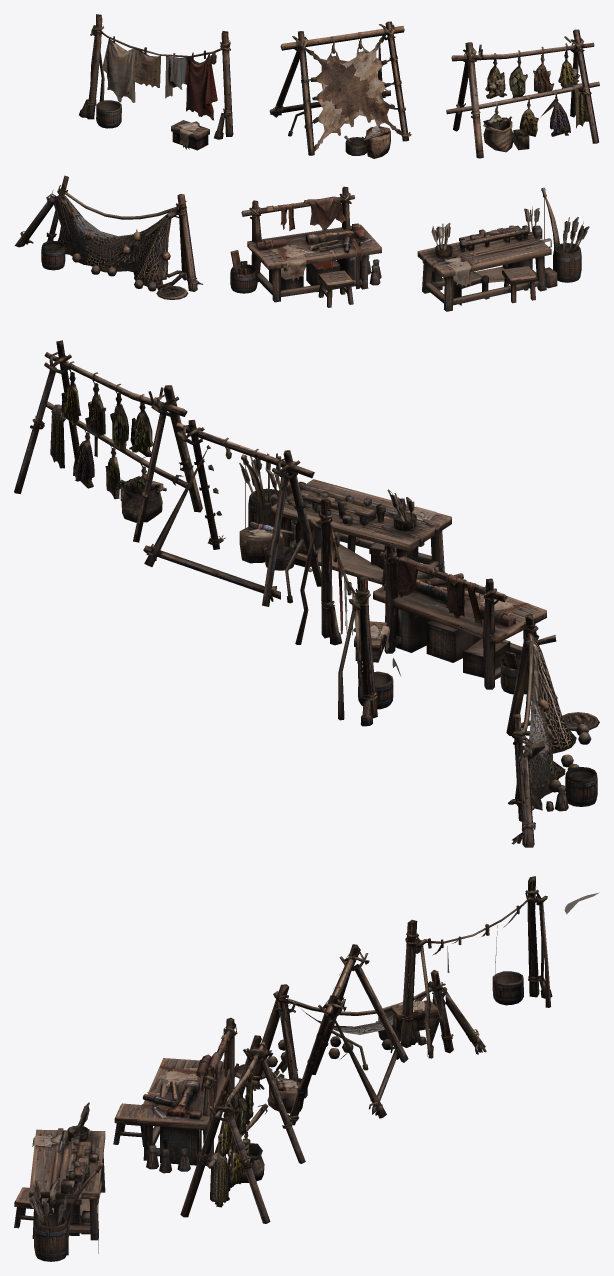
Rendered from asset_17_drying_crafts_set.glb.
3 renders of one model, top to bottom at view 1: azimuth 30°, elevation 25°; view 2: azimuth 150°, elevation 25°; view 3: azimuth 270°, elevation 25°, orthographic. The views are drawn at different scales.
Parts seen in each view (by area): view 1: tripo_089b2c66_af18_4dde_9cfb_08a9777c1564; view 2: tripo_089b2c66_af18_4dde_9cfb_08a9777c1564; view 3: tripo_089b2c66_af18_4dde_9cfb_08a9777c1564.
Part boxes in pixels (<box>): tripo_089b2c66_af18_4dde_9cfb_08a9777c1564: <box>14,14,599,311</box>; tripo_089b2c66_af18_4dde_9cfb_08a9777c1564: <box>14,340,599,847</box>; tripo_089b2c66_af18_4dde_9cfb_08a9777c1564: <box>14,876,599,1261</box>.
Bounding box in the file's own units: 0.9995 × 0.3911 × 0.8735.
1 material, 1 textured.
